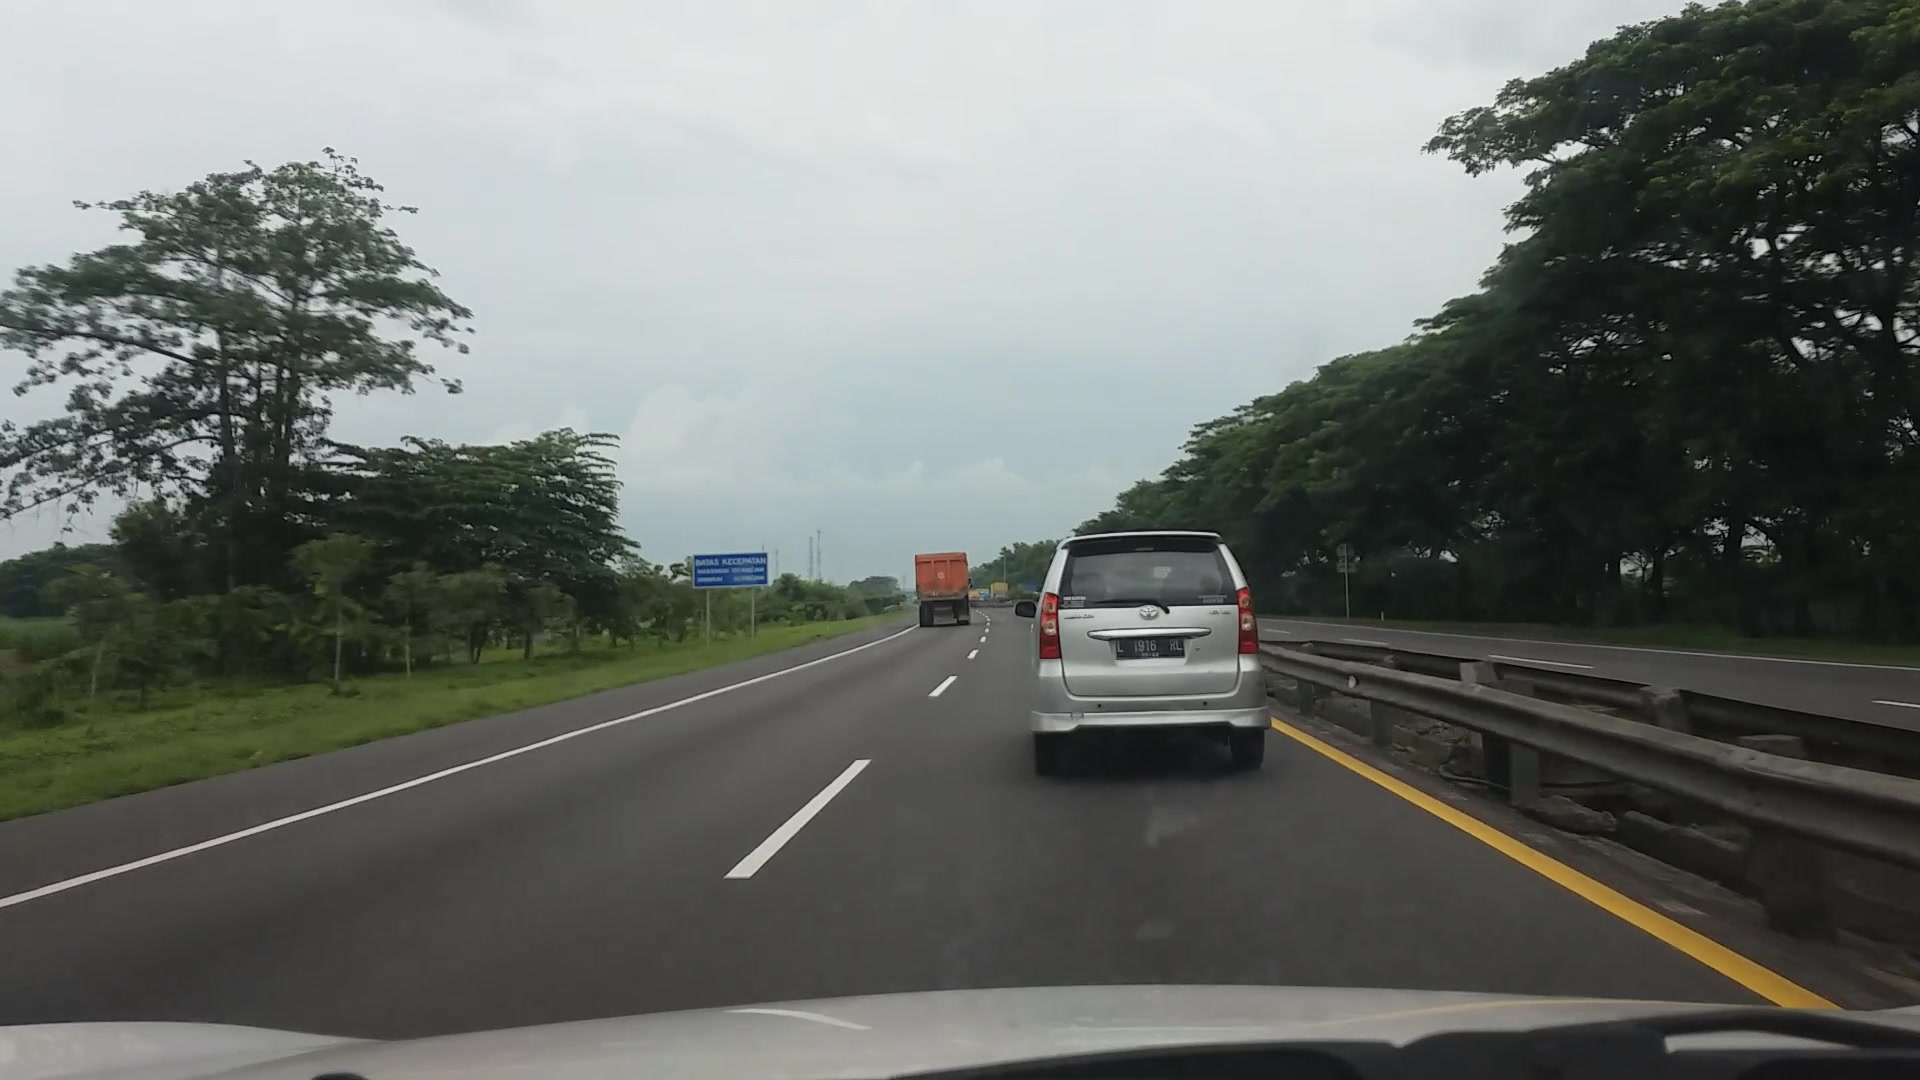plate_positive: (1116, 636, 1185, 659)
